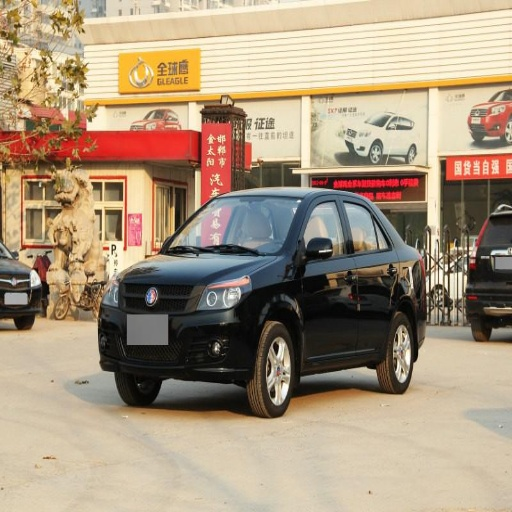front_bumper: (99, 280, 262, 380)
front_glass: (162, 196, 303, 254)
front_left_door: (300, 196, 356, 364)
